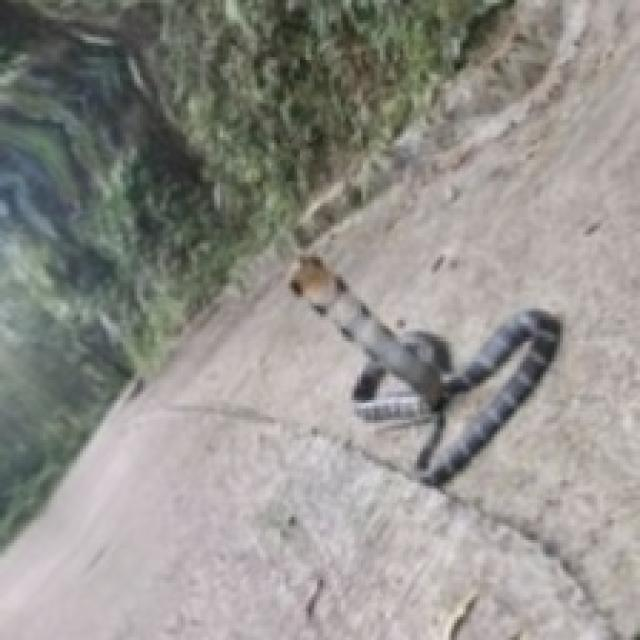king cobra: (289, 254, 560, 483)
